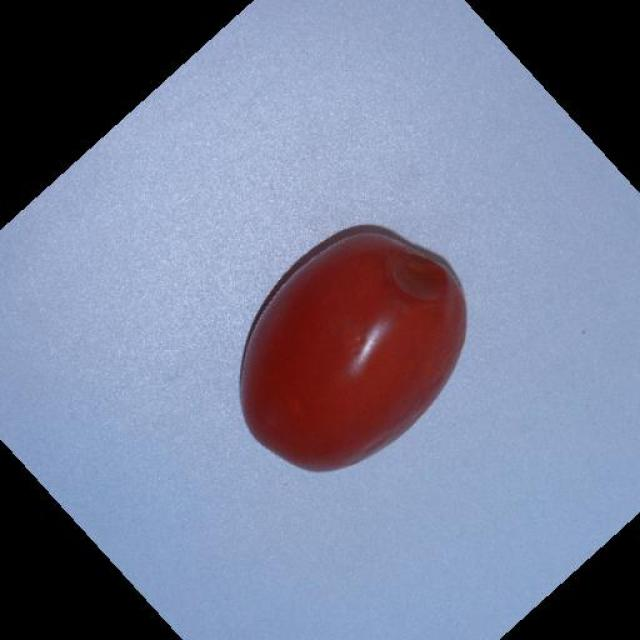Stale_tomato: (260, 188, 472, 480)
